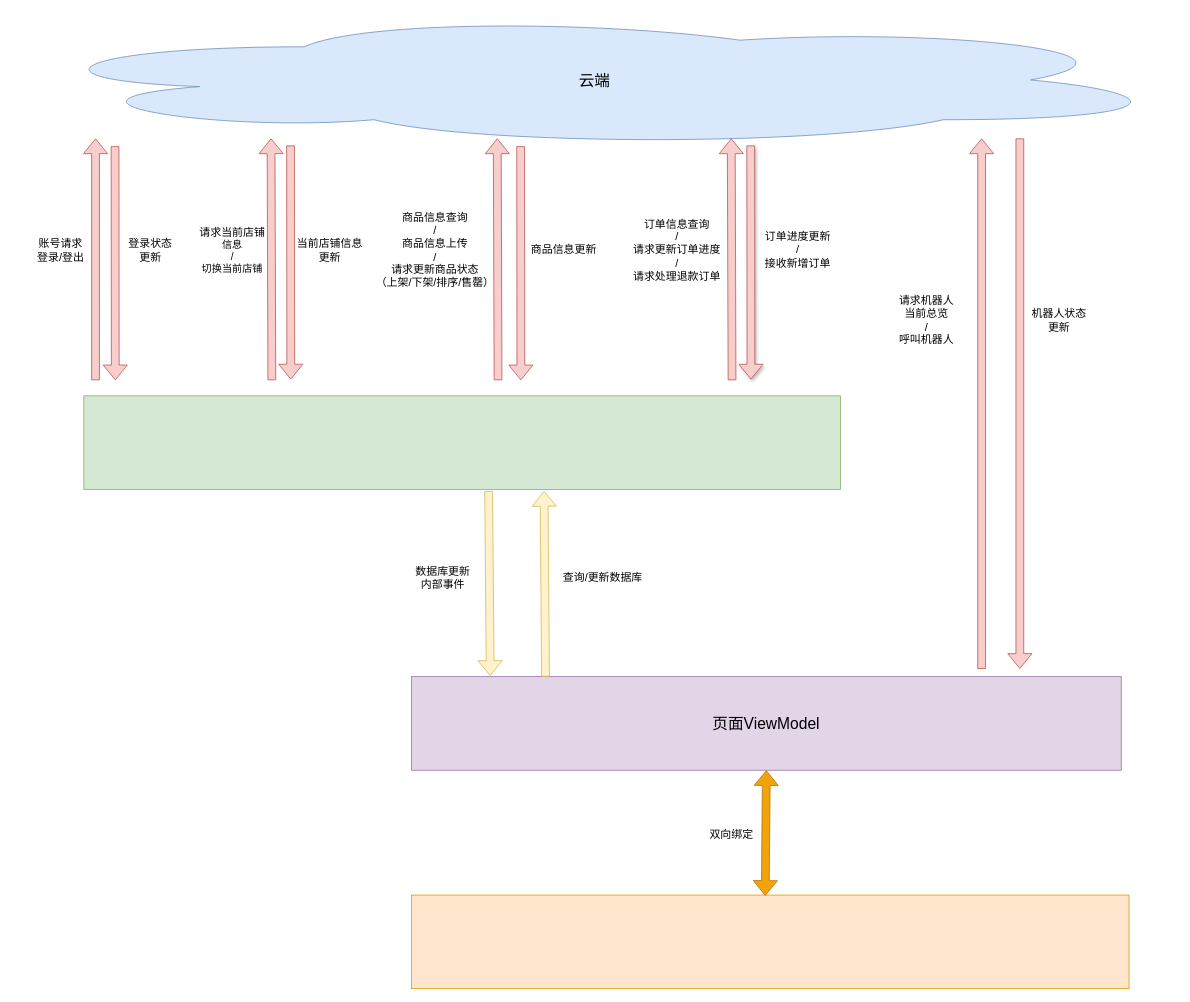
Some shapes in this 1190 by 1002 pixel diagram are drawn without their labels. The shapes that lost their labels are listed below. From the top down, each one's centre as x and y in pixels, then its label:
the point at 461,442: 本地缓存数据库
the point at 770,941: 页面布局
